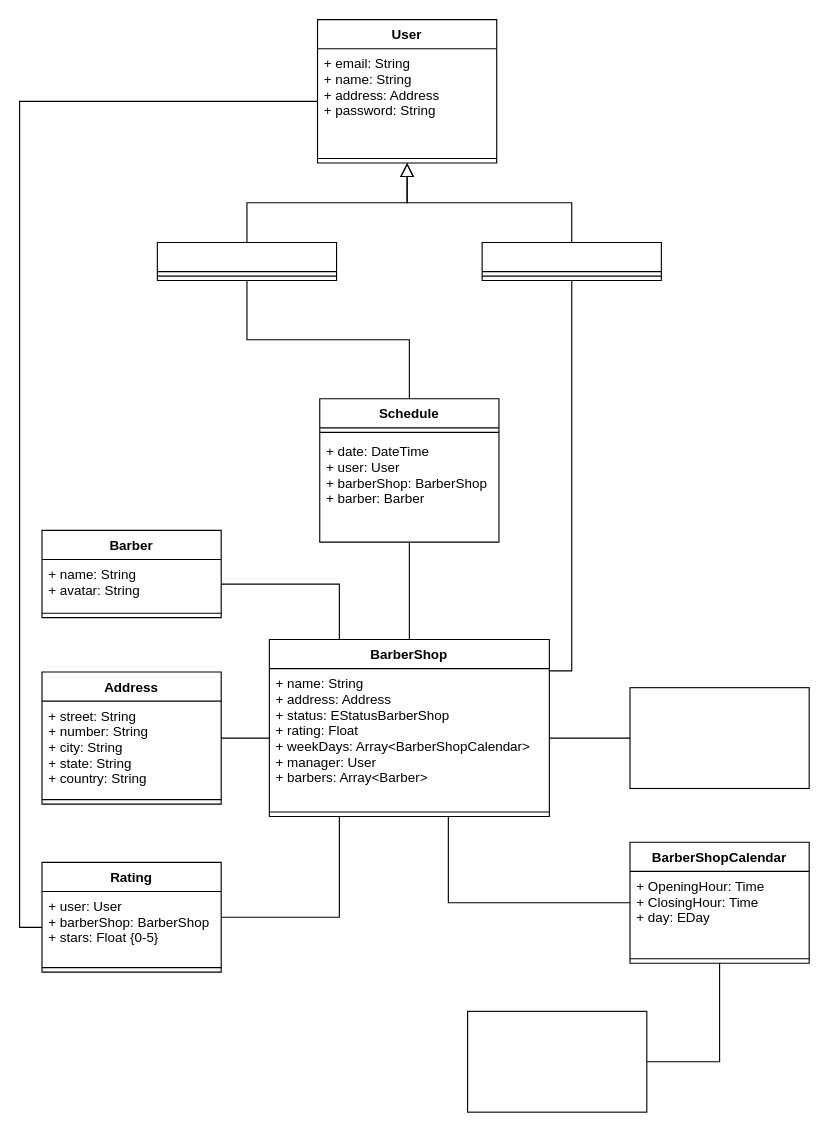
Some shapes in this 829 by 1132 pixel diagram are drawn without their labels. The centre of each missing label's shape, as x and y in pixels:
"Client" goes at point 246,261.
"EDay:Enum sunday = 0 monday = 1 ... saturday = 6" goes at point 556,1061.
"EStatusBarberShop:Enum closed = 0 opened = 1" goes at point 719,737.
"Manager" goes at point 571,261.
